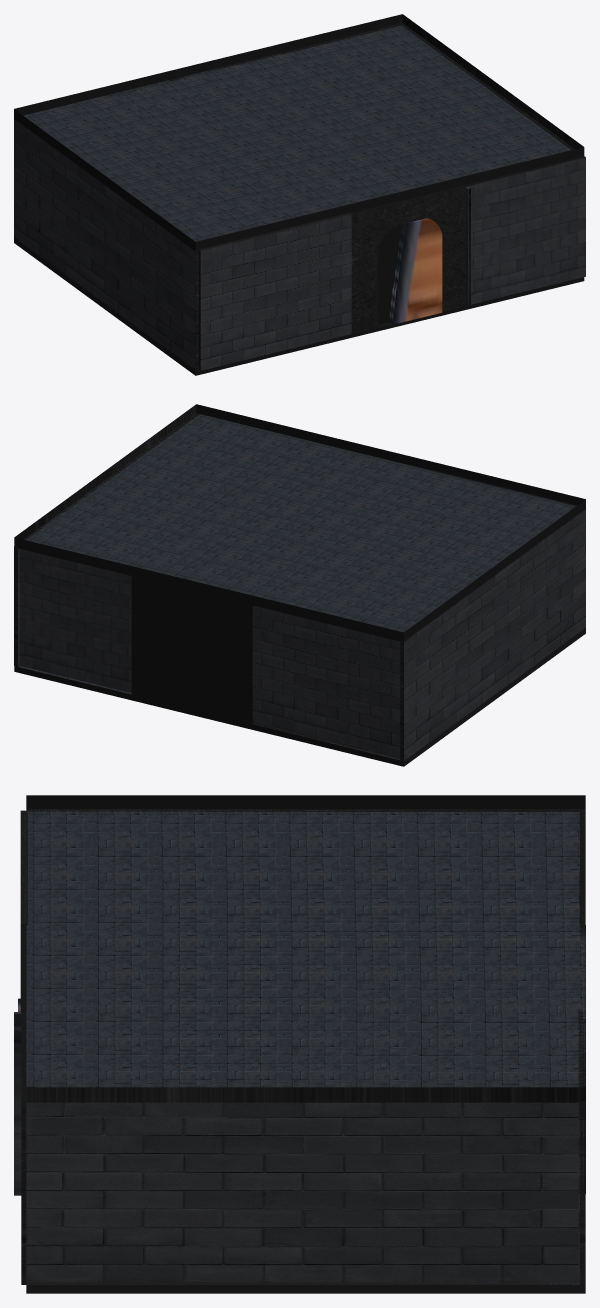
Rendered from sala_3_final.fbx.
The picture shows the model from 3 angles, top to bottom: view 1: azimuth 30°, elevation 25°; view 2: azimuth 150°, elevation 25°; view 3: azimuth 270°, elevation 25°; orthographic projection. The views are drawn at different scales.
Visible parts, largest first — view 1: paredes, puerta sala; view 2: paredes; view 3: paredes.
Boxes of the visible parts, <box> form: paredes: <box>14,14,585,375</box>; puerta sala: <box>377,218,442,327</box>; paredes: <box>14,404,585,766</box>; paredes: <box>14,795,585,1293</box>.
Bounding box in the file's own units: 682 × 225 × 564.
